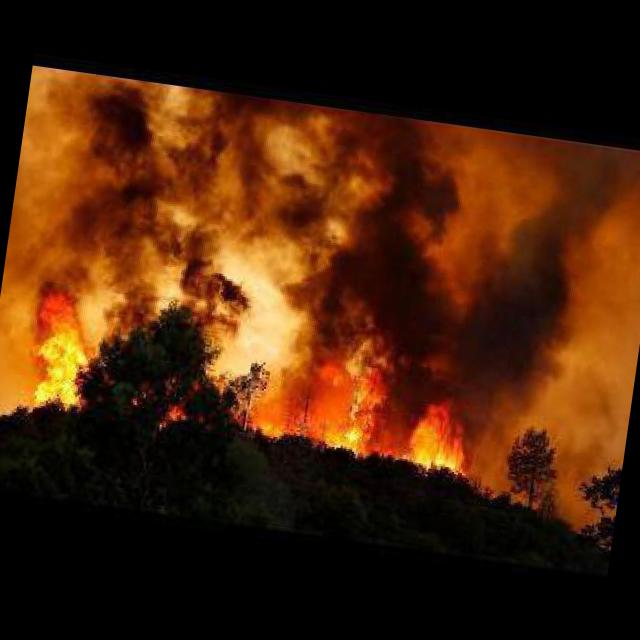Fire: (292, 308, 498, 478), (25, 282, 108, 411)
Smoke: (4, 59, 640, 358)
